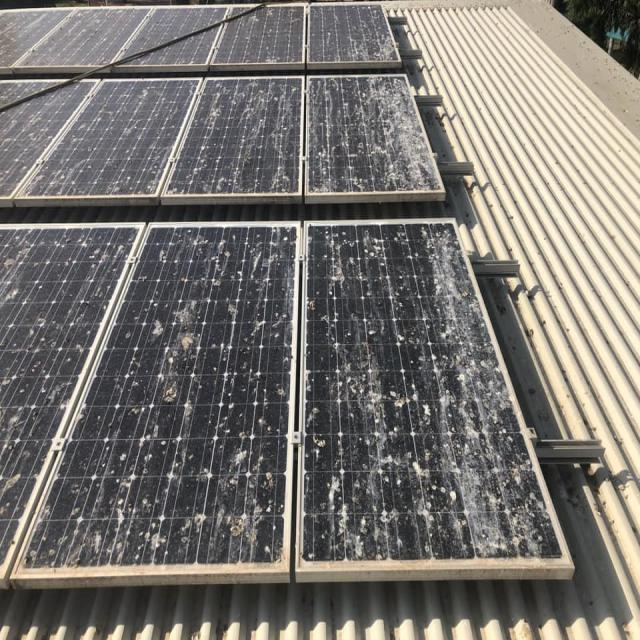faulty: (19, 222, 299, 575), (297, 222, 563, 567), (2, 225, 139, 578), (18, 80, 201, 197), (160, 73, 302, 194), (308, 74, 447, 197), (11, 7, 149, 70), (0, 87, 86, 187), (119, 1, 223, 61), (307, 1, 397, 67)
